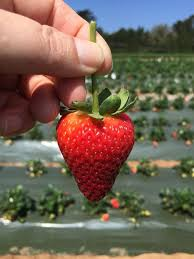ripe: (53, 104, 138, 211)
